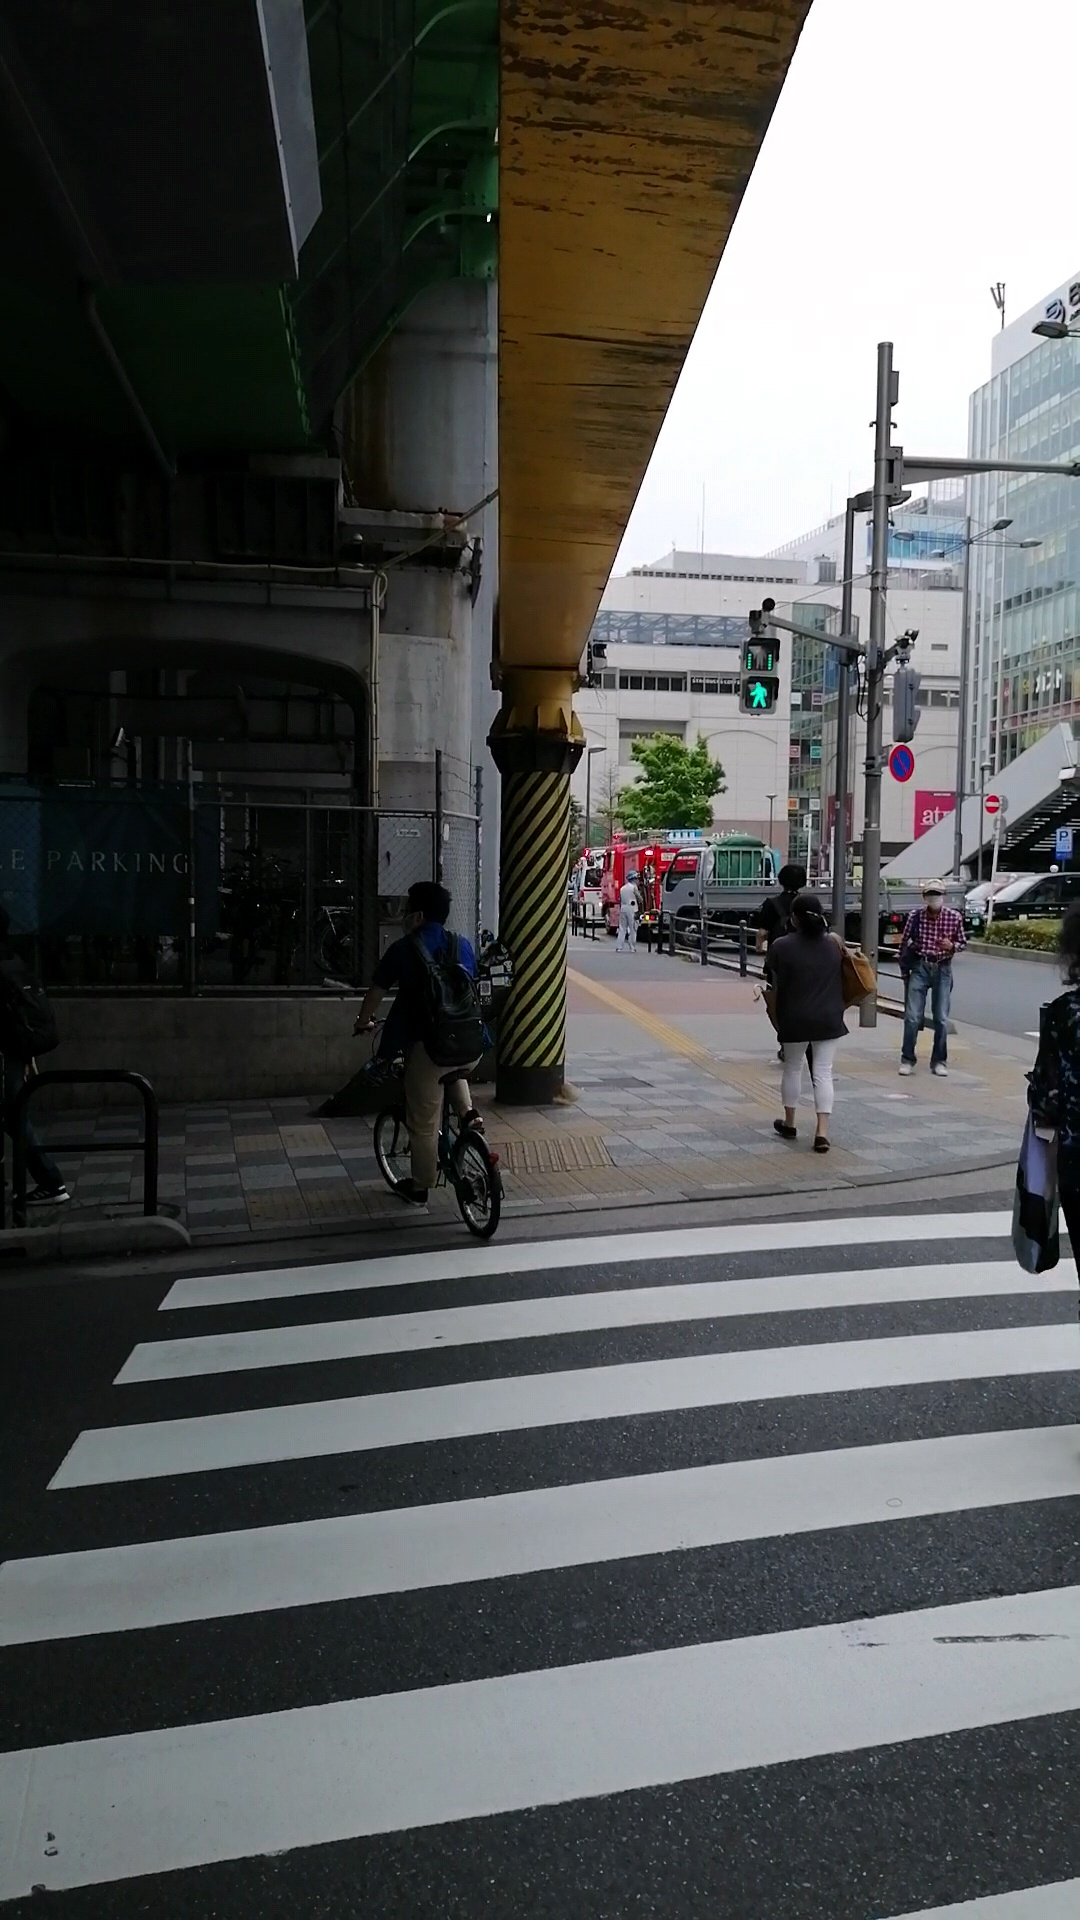green: (740, 640, 781, 715)
